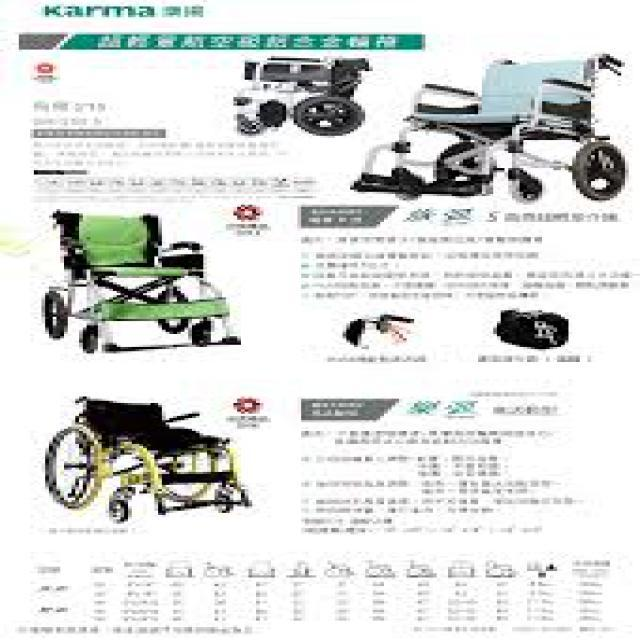wheelchair: (350, 51, 625, 200), (26, 202, 245, 366), (18, 392, 264, 530)
